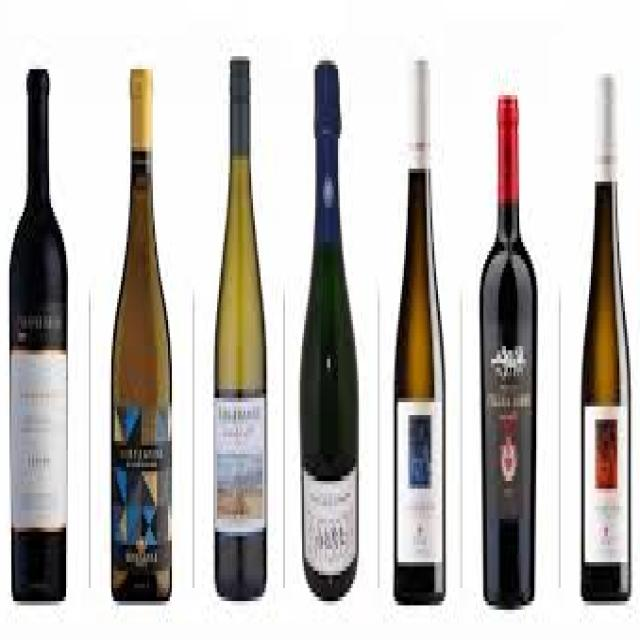Bottle: (108, 63, 173, 608), (298, 60, 361, 604), (9, 62, 70, 605), (210, 54, 270, 604), (479, 88, 540, 610), (574, 65, 632, 607), (391, 58, 445, 603)
